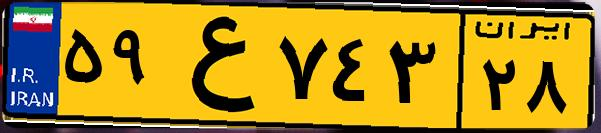2: (475, 38, 525, 113)
3: (385, 28, 445, 110)
4: (330, 28, 385, 110)
5: (57, 26, 110, 100)
7: (270, 28, 330, 110)
8: (525, 38, 570, 115)
9: (110, 28, 158, 98)
ع: (158, 12, 270, 120)
